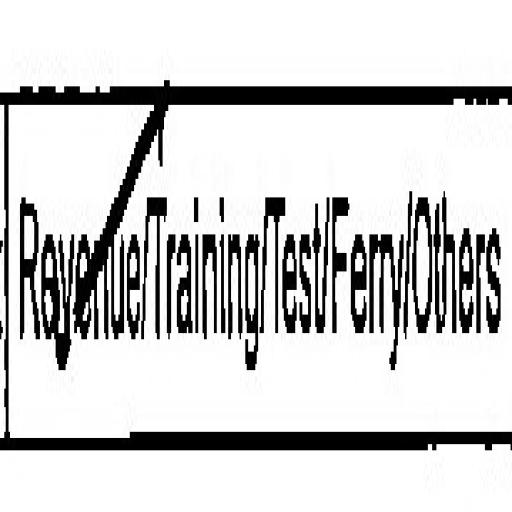check: (0, 0, 145, 499)
